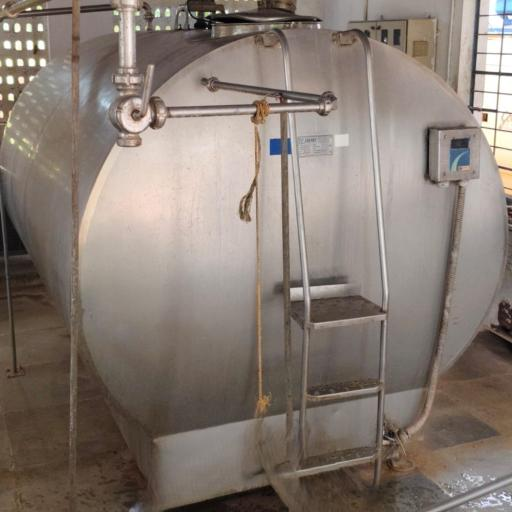silo: (0, 5, 507, 511)
